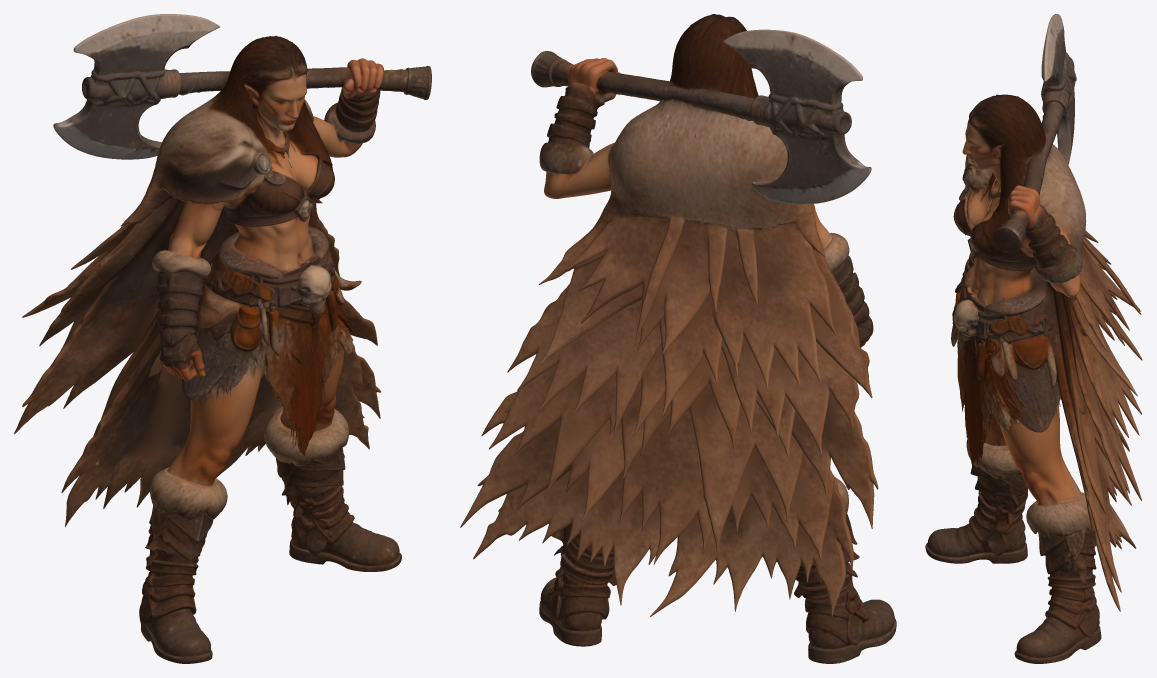
File: half_elf_barbarian_full_female_01.glb
3 views of the same model, side by side, from view 1: azimuth 30°, elevation 25°; view 2: azimuth 150°, elevation 25°; view 3: azimuth 270°, elevation 25° (orthographic). The views are drawn at different scales.
Parts seen in each view (by area): view 1: material; view 2: material; view 3: material.
Boxes of the visible parts, x1=… form: material: x1=14, y1=14, x2=431, y2=663; material: x1=460, y1=14, x2=896, y2=663; material: x1=925, y1=14, x2=1142, y2=663.
Size of the model in its own units: 0.7016 by 1.07 by 0.3926.
1 material, 1 textured.
